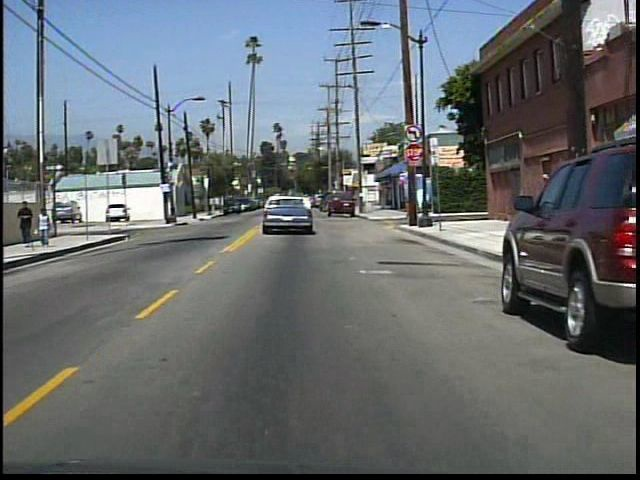person: (37, 206, 59, 249), (20, 199, 39, 247)
